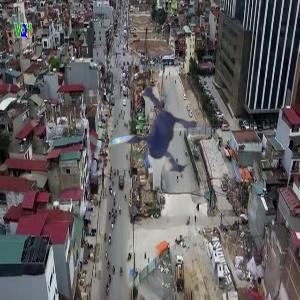drone: (70, 62, 215, 207)
